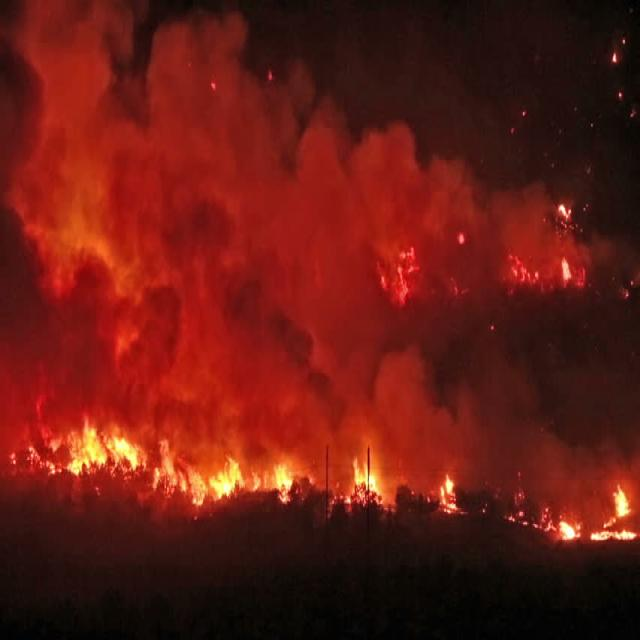Fire: (19, 395, 158, 489), (149, 431, 254, 517), (346, 436, 396, 518), (247, 448, 301, 508), (378, 234, 424, 304), (544, 506, 597, 550), (606, 478, 636, 542), (558, 246, 590, 305), (431, 460, 464, 516), (502, 244, 534, 285)
Smoke: (0, 0, 636, 517), (637, 508, 640, 509)
